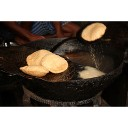poori: (41, 55, 68, 73), (27, 49, 55, 66), (19, 66, 49, 77)
